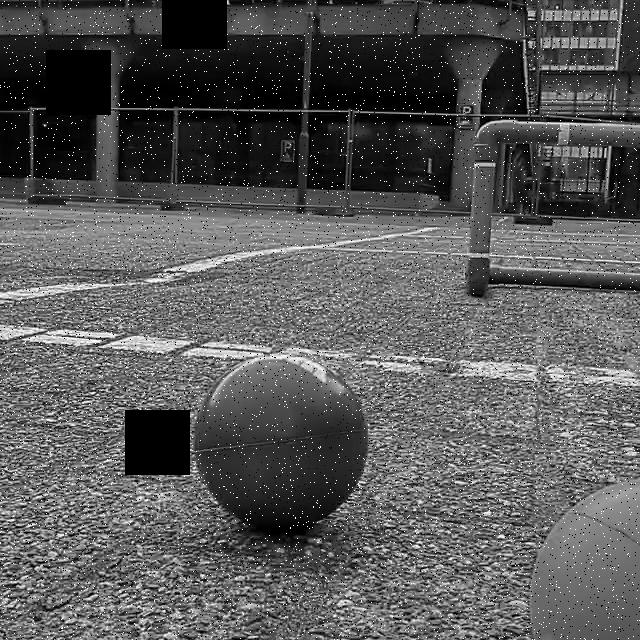ball: (190, 350, 371, 531), (528, 475, 640, 640)
